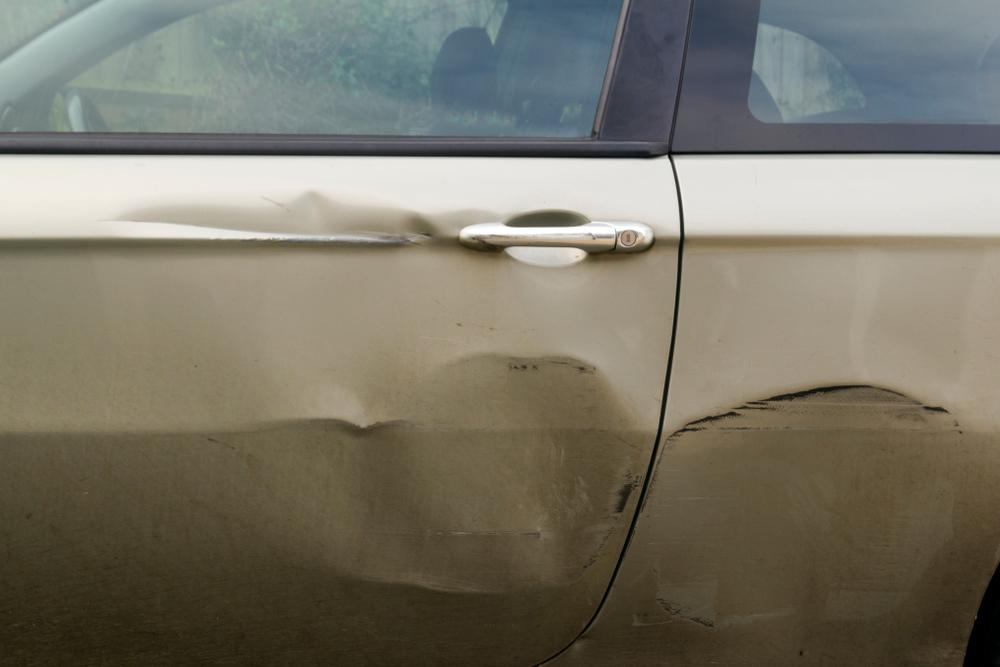dent: (280, 354, 632, 588), (649, 383, 968, 622), (121, 194, 503, 246)
